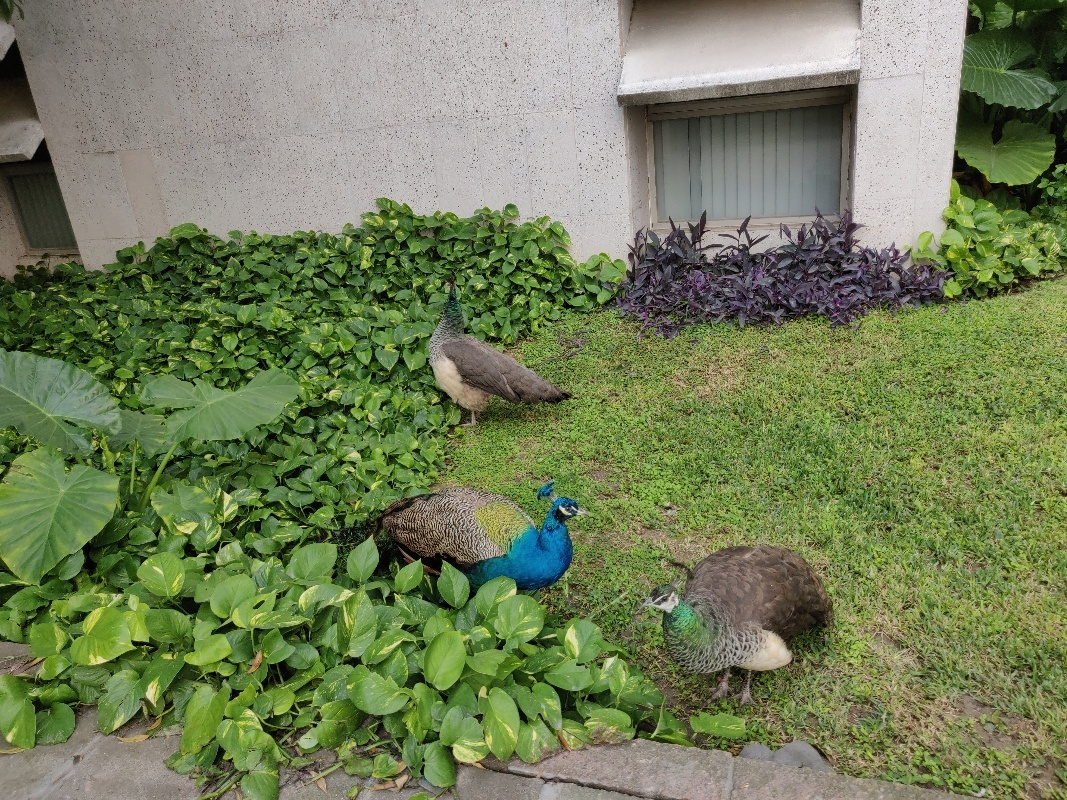pavoreal: (644, 544, 817, 706), (385, 490, 583, 596), (431, 269, 540, 429)
